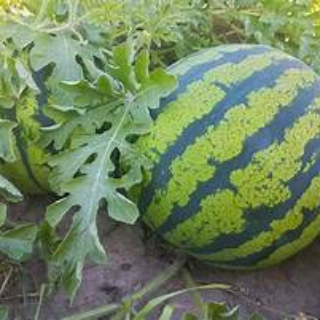dua_hau: (119, 41, 320, 272)
